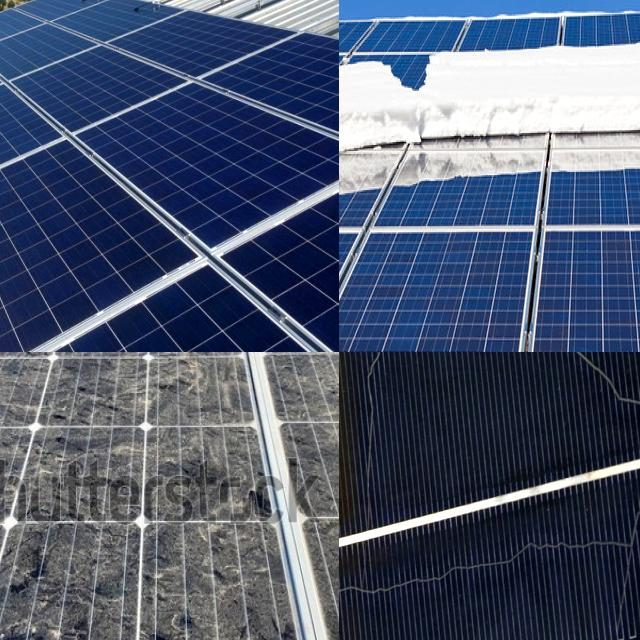crack: (64, 45, 339, 295), (0, 123, 206, 352), (160, 149, 339, 352), (0, 20, 192, 162), (106, 0, 277, 93), (0, 45, 71, 153), (0, 21, 59, 98)
dust: (0, 515, 138, 640), (142, 531, 278, 640), (49, 362, 248, 416), (0, 519, 73, 640), (33, 424, 140, 502), (0, 352, 223, 389), (167, 418, 256, 506), (0, 352, 80, 426), (0, 352, 214, 379), (0, 424, 60, 507), (294, 430, 339, 505), (276, 363, 339, 412), (239, 352, 339, 377), (0, 417, 25, 505), (0, 352, 61, 387)
panel: (339, 68, 426, 204), (500, 100, 598, 163), (412, 34, 502, 96), (339, 34, 405, 95), (400, 118, 488, 154), (339, 120, 397, 173), (517, 39, 586, 77), (339, 45, 368, 123), (609, 82, 640, 150), (596, 32, 640, 64), (339, 17, 367, 59), (339, 123, 357, 176), (339, 78, 363, 107)
shadow: (339, 521, 614, 633), (419, 352, 640, 462), (344, 352, 398, 521), (386, 352, 425, 420), (339, 352, 389, 373)
